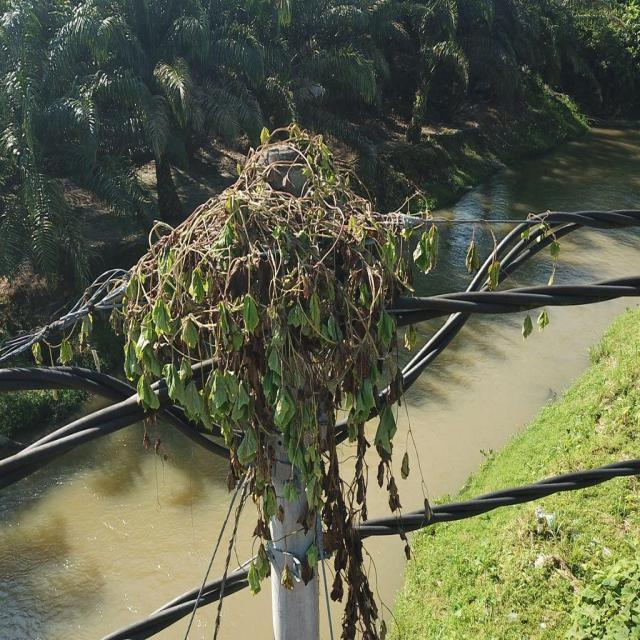critical vegetation: (82, 114, 440, 612)
